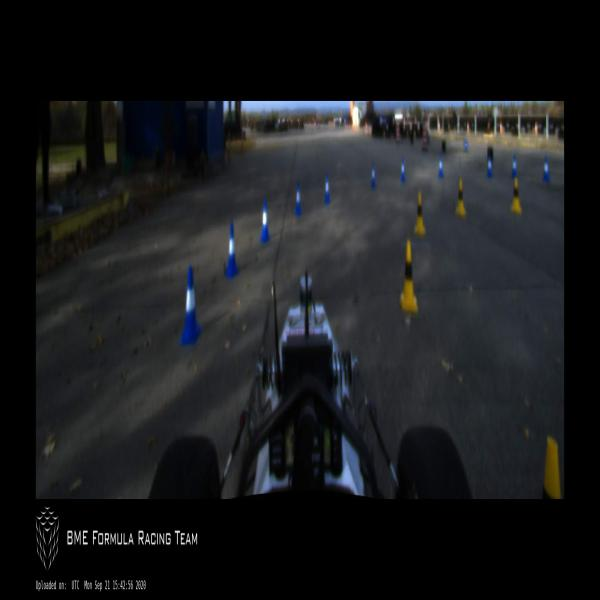blue_cone: (178, 265, 202, 347), (225, 220, 240, 278), (260, 199, 270, 242), (293, 183, 303, 216), (323, 174, 331, 202), (542, 157, 550, 182), (370, 162, 377, 188), (486, 153, 493, 177), (399, 158, 406, 181), (511, 155, 518, 178), (438, 154, 444, 178)
yellow_cone: (400, 241, 418, 314), (413, 193, 426, 235), (510, 177, 521, 213), (455, 178, 465, 216)
